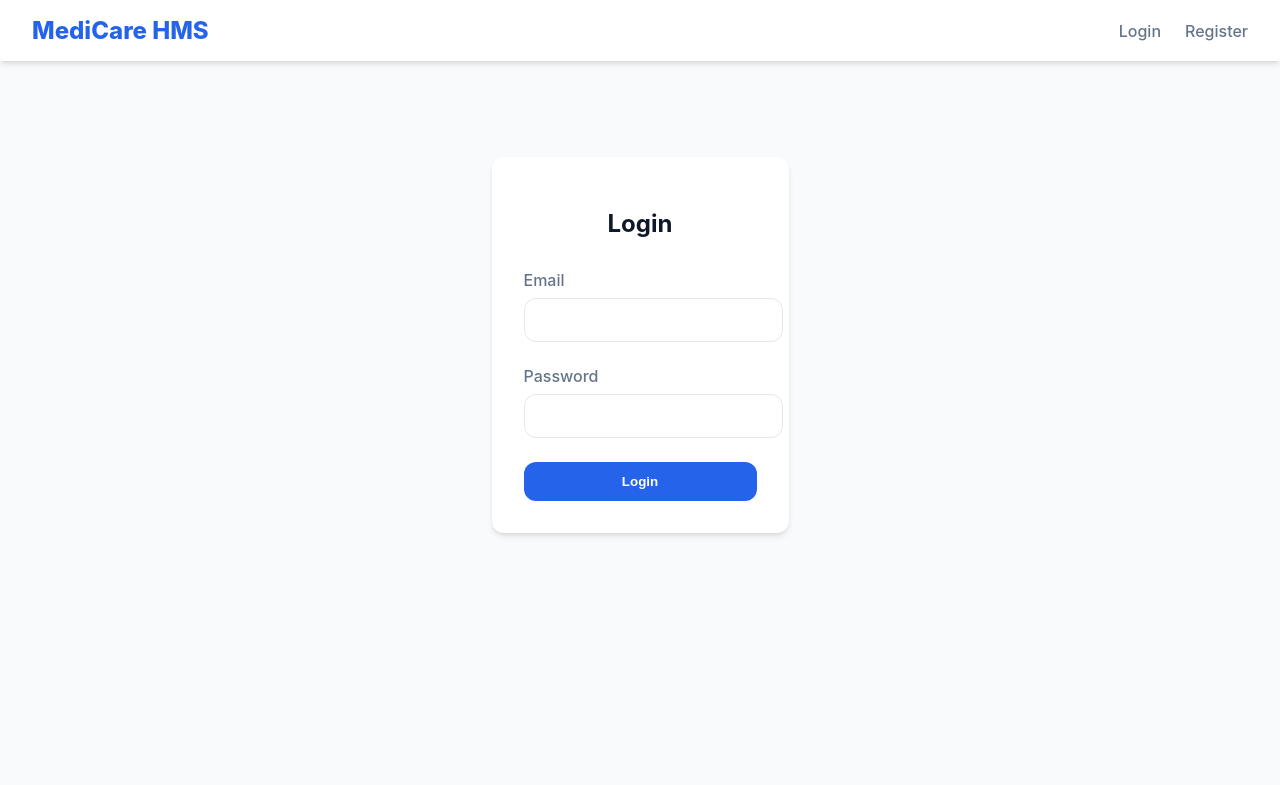
it: Login Flow › should login successfully with valid credentials
In the field: (654, 320) [524,298,783,342], type "test@example.com"
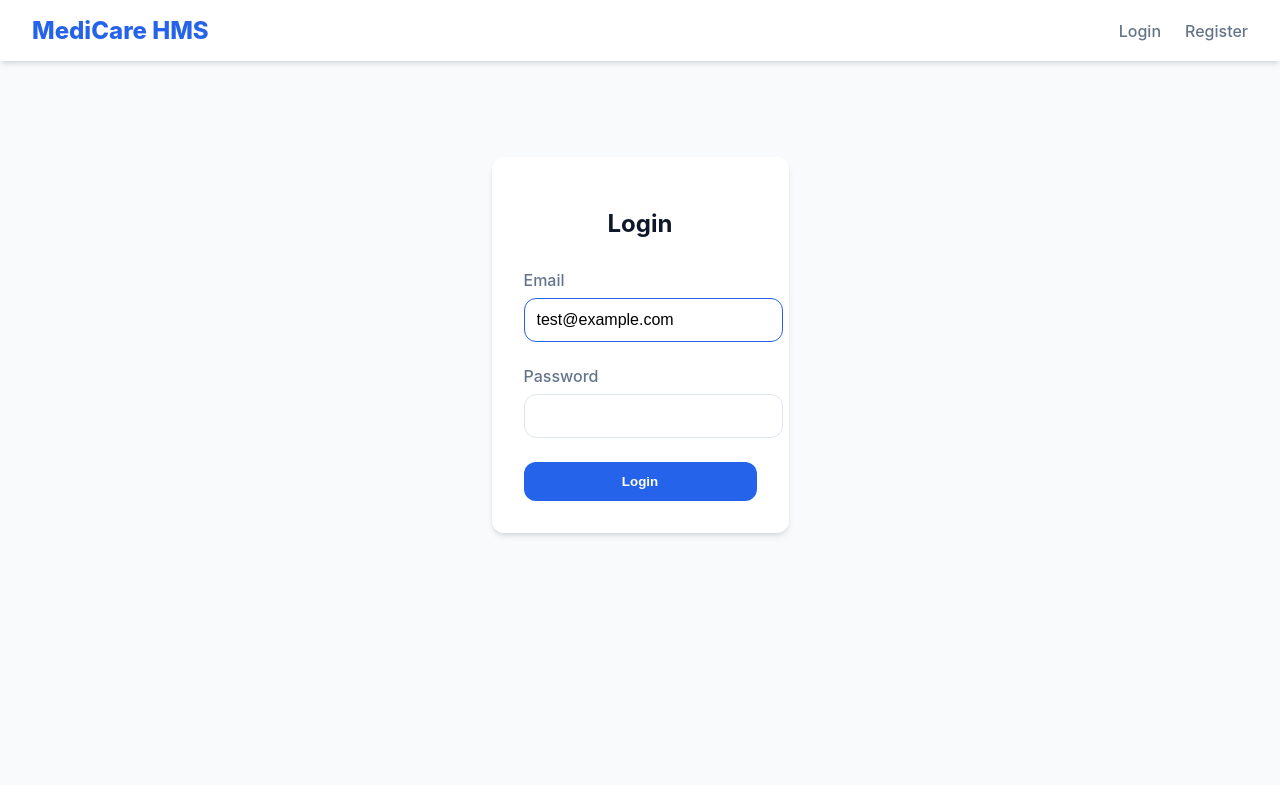
In the password field: (654, 416) [524,394,783,438], type "password"
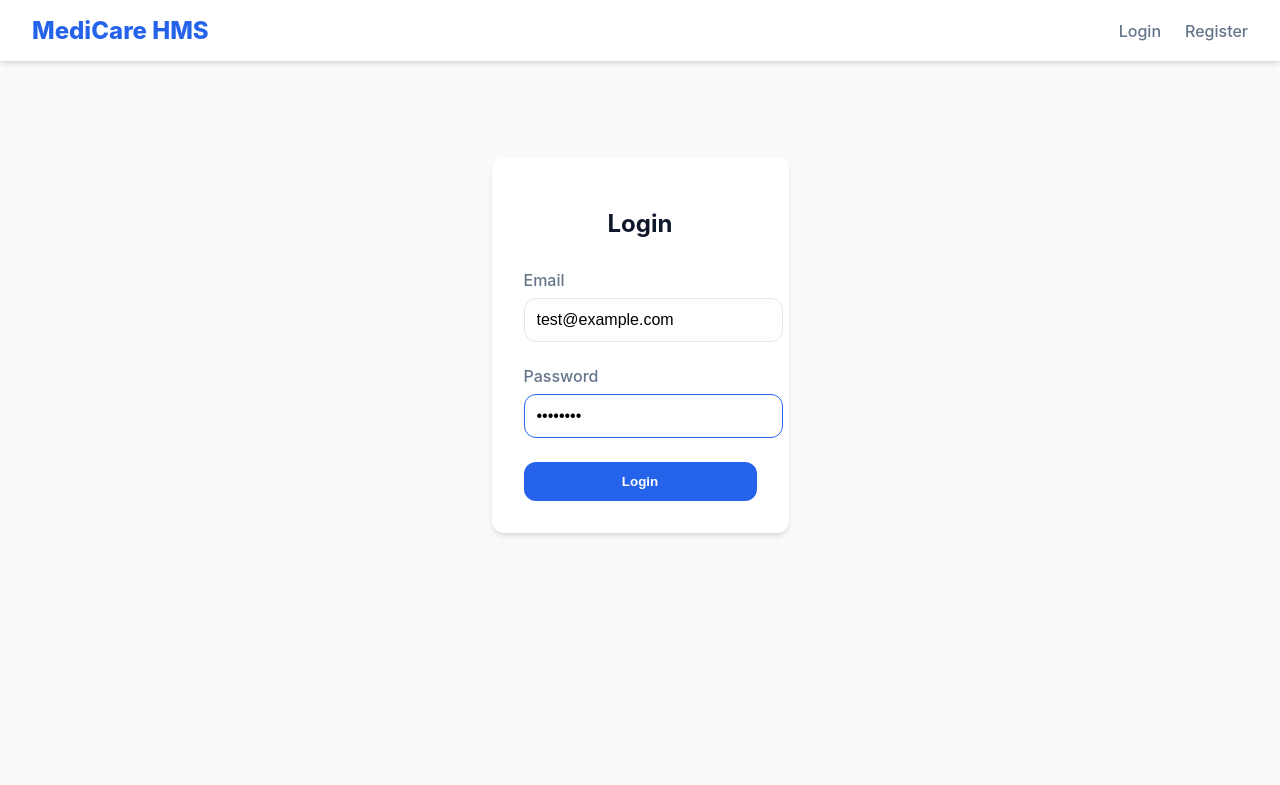
Click the submit button: (641, 482) [524,462,757,501]
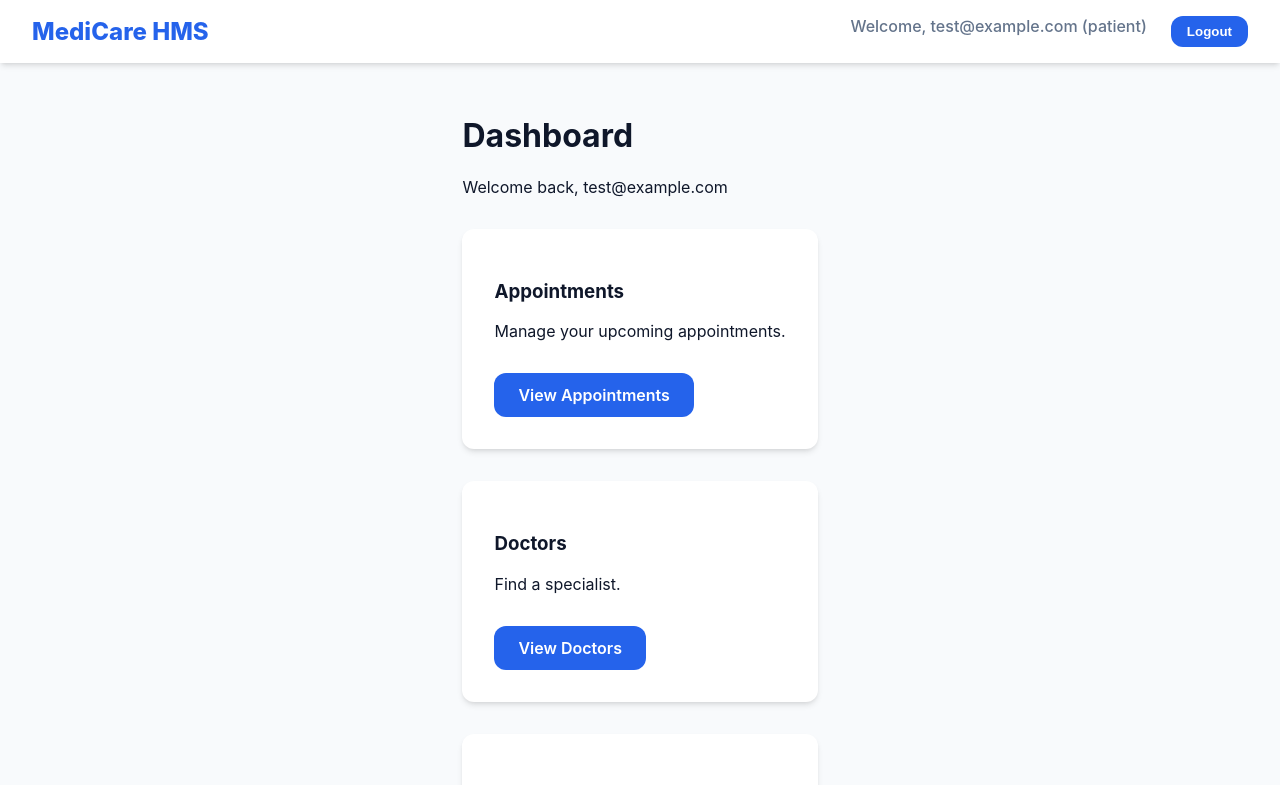
Expected: the text "Welcome back" is shown, [462,177,583,197]
